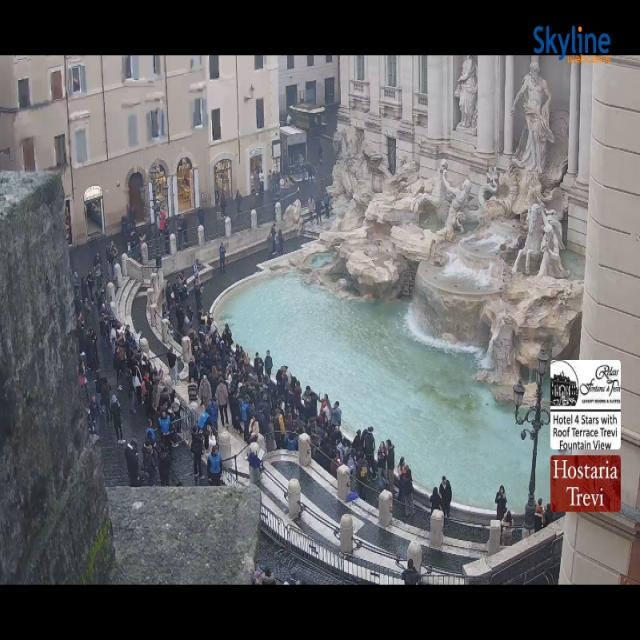person: (240, 383, 303, 434), (214, 328, 243, 430), (199, 313, 236, 384), (226, 345, 257, 422), (299, 417, 337, 470), (186, 308, 211, 383), (185, 279, 207, 364), (236, 345, 263, 414), (244, 355, 274, 417), (262, 395, 297, 448), (213, 330, 239, 398), (290, 377, 323, 427), (74, 310, 99, 375), (190, 328, 216, 389), (234, 355, 256, 422), (136, 355, 159, 417), (156, 285, 181, 341), (286, 404, 319, 445), (260, 391, 282, 450), (307, 410, 334, 457), (192, 311, 213, 368), (189, 309, 209, 368), (294, 413, 324, 451), (283, 368, 305, 419), (234, 344, 256, 395), (131, 350, 151, 403), (201, 312, 225, 356), (156, 303, 183, 341), (100, 290, 116, 354), (184, 302, 204, 352), (280, 366, 299, 418), (236, 345, 257, 392), (112, 325, 127, 390), (148, 376, 167, 425), (286, 403, 315, 435), (301, 391, 326, 427), (157, 279, 180, 318), (276, 366, 294, 415), (128, 344, 150, 382), (159, 380, 175, 431), (168, 390, 182, 447), (189, 330, 200, 401), (188, 343, 201, 403), (76, 310, 89, 369), (96, 289, 109, 348), (125, 439, 140, 487), (113, 331, 125, 391), (126, 350, 137, 414), (93, 263, 107, 312), (191, 426, 203, 483), (290, 377, 307, 417), (125, 208, 138, 259), (401, 468, 415, 515), (122, 205, 135, 255), (111, 395, 124, 444), (364, 426, 376, 477), (216, 377, 228, 425), (87, 326, 99, 371), (229, 391, 242, 432), (286, 413, 308, 437), (158, 445, 171, 485), (208, 445, 221, 485), (198, 410, 211, 450), (144, 445, 157, 485), (356, 451, 367, 498), (76, 318, 87, 365), (141, 371, 152, 417), (377, 440, 387, 490), (303, 386, 319, 417), (132, 359, 143, 404), (320, 395, 334, 430), (303, 156, 320, 184), (387, 439, 395, 498), (159, 411, 171, 450), (111, 317, 123, 356), (106, 240, 118, 279), (152, 370, 163, 412), (96, 275, 107, 316), (440, 476, 451, 517), (136, 351, 151, 381), (240, 398, 250, 443), (402, 559, 420, 584), (500, 511, 513, 545), (101, 377, 111, 421), (124, 325, 136, 361), (128, 222, 139, 261), (320, 432, 331, 471), (79, 359, 89, 401), (207, 396, 218, 434), (253, 565, 275, 584), (248, 172, 259, 210), (143, 371, 151, 423), (276, 368, 287, 404), (496, 485, 507, 521), (167, 348, 178, 384), (331, 426, 343, 459), (108, 240, 118, 279), (89, 395, 99, 434), (94, 370, 103, 412), (200, 376, 212, 407), (266, 415, 276, 452), (285, 411, 299, 437), (336, 440, 351, 464), (276, 410, 285, 448), (93, 252, 102, 289), (93, 252, 103, 285), (344, 450, 356, 477), (398, 457, 405, 503), (82, 296, 91, 330), (109, 317, 117, 355), (221, 324, 233, 349), (535, 498, 544, 531), (178, 272, 187, 305), (106, 242, 114, 279), (136, 232, 146, 261), (176, 303, 185, 335), (188, 377, 199, 403), (100, 313, 108, 348), (319, 189, 329, 217), (126, 205, 135, 236), (430, 488, 441, 513), (256, 408, 266, 435), (254, 352, 263, 382), (276, 171, 287, 195), (184, 306, 193, 335), (249, 417, 259, 443), (330, 455, 341, 478), (331, 402, 341, 427), (145, 419, 155, 444), (274, 170, 284, 195), (285, 432, 298, 451), (165, 282, 173, 312), (266, 229, 274, 259), (195, 284, 203, 314), (176, 216, 183, 250), (87, 270, 94, 304), (172, 278, 181, 304), (267, 229, 275, 258), (264, 350, 272, 379), (352, 430, 363, 451), (268, 169, 278, 192), (261, 568, 275, 584), (252, 564, 263, 584), (283, 365, 292, 389), (179, 217, 187, 244), (544, 504, 553, 527), (81, 276, 89, 300), (268, 224, 276, 248), (291, 572, 307, 584), (86, 408, 93, 434), (192, 258, 201, 278), (73, 272, 80, 297), (308, 196, 315, 221), (220, 243, 226, 272), (272, 170, 279, 194), (159, 210, 166, 234), (220, 192, 226, 218), (316, 198, 322, 224), (236, 190, 242, 214), (253, 171, 259, 195), (324, 190, 329, 217), (214, 188, 221, 207), (271, 230, 276, 256), (278, 230, 283, 255), (198, 209, 204, 227), (318, 144, 323, 164), (259, 171, 263, 195), (139, 231, 146, 243), (268, 170, 272, 191), (279, 176, 284, 191), (287, 113, 291, 125)
